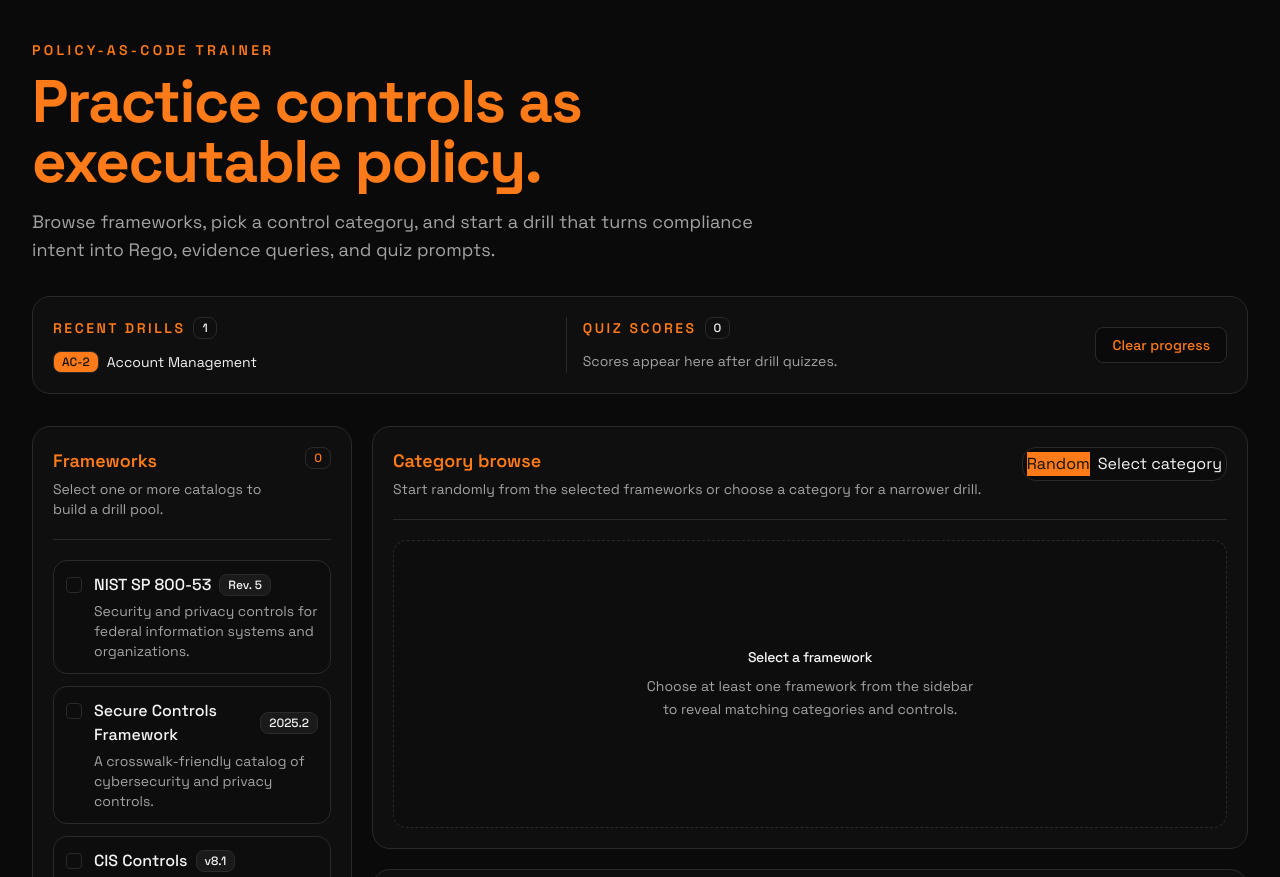
Scenario: CatalogPage › clears stored progress from the progress strip
Expected: the text "Account Management" is shown, top-left (107, 352), bottom-right (257, 372)
Click the button "Clear progress": {"x": 1161, "y": 345} top-left (1095, 327), bottom-right (1227, 363)
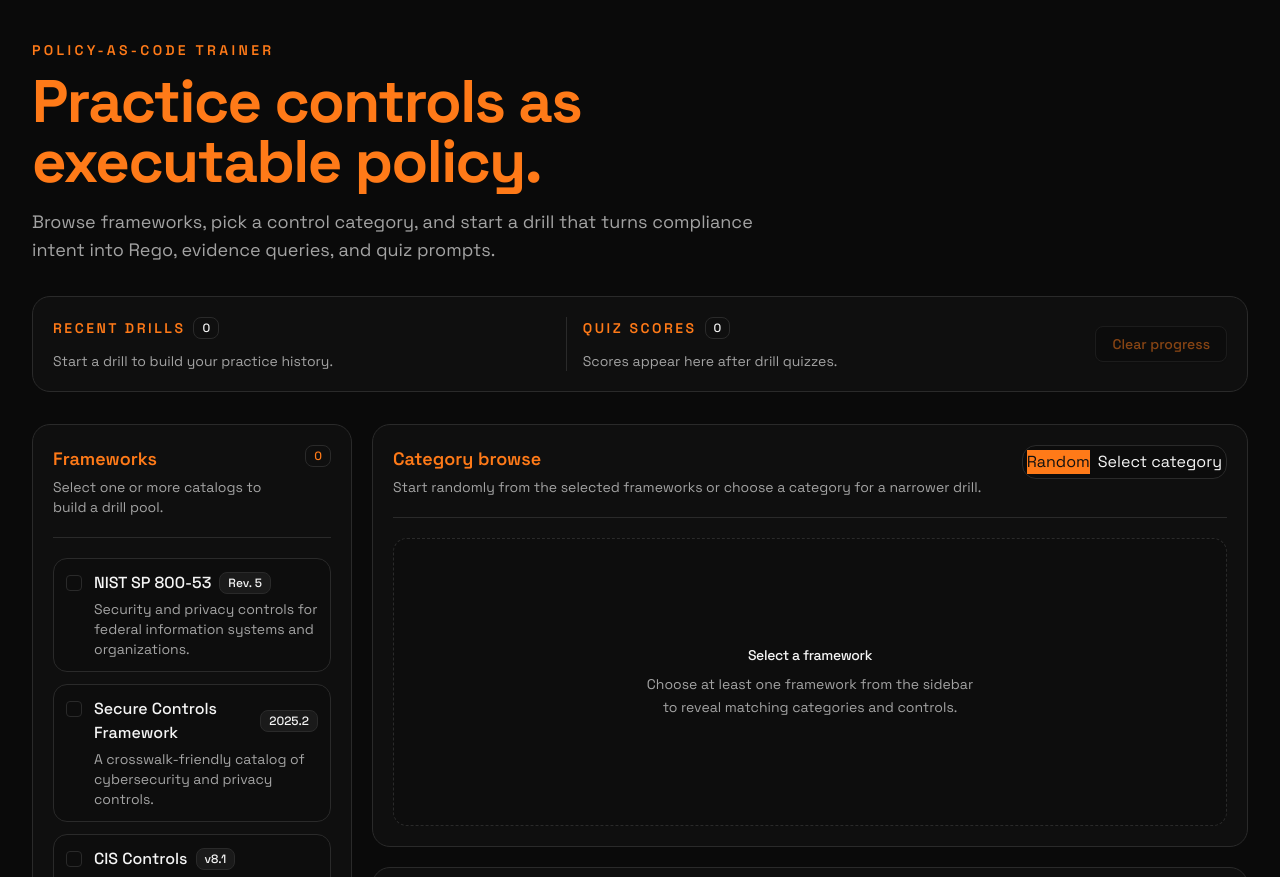
Expected: the text "Account Management" is gone
Expected: the text "Start a drill to build your practice history." is shown, top-left (53, 352), bottom-right (333, 370)
